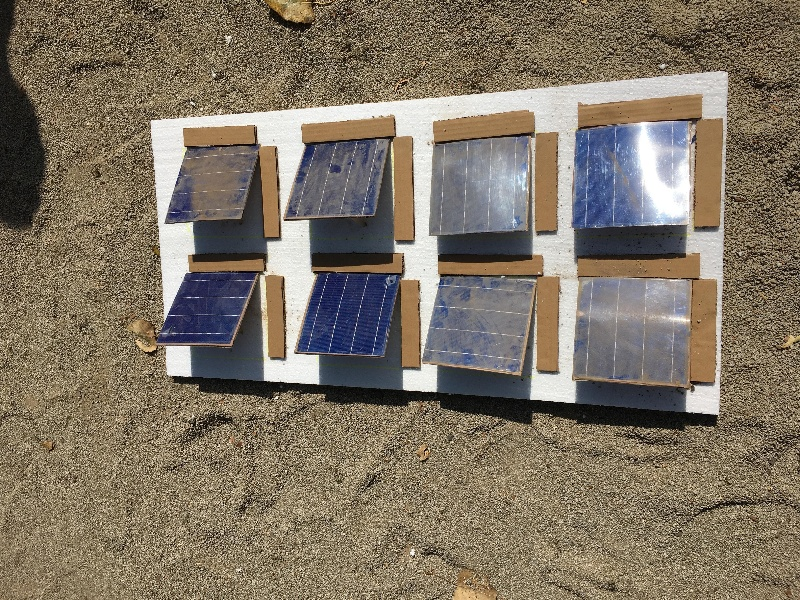clean: (294, 273, 397, 361), (155, 272, 262, 346)
dirty: (576, 276, 694, 391), (423, 276, 542, 376), (424, 133, 533, 232), (283, 143, 385, 220), (167, 145, 255, 227)
